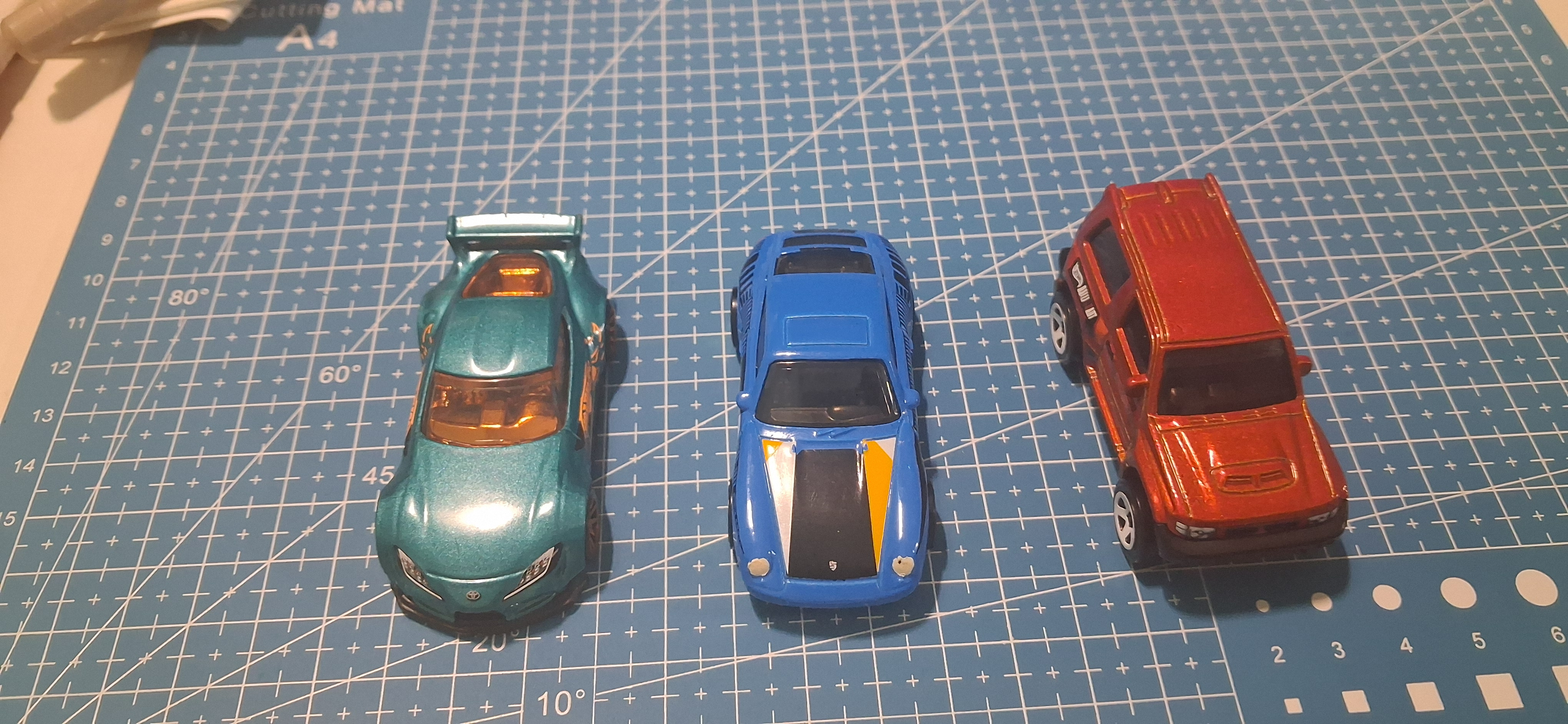Mitsubishi_Pajero_Evolution: (1017, 168, 1395, 614)
Porsche_Carrera: (695, 193, 971, 644)
Toyota_GR_Supra: (364, 195, 638, 656)
